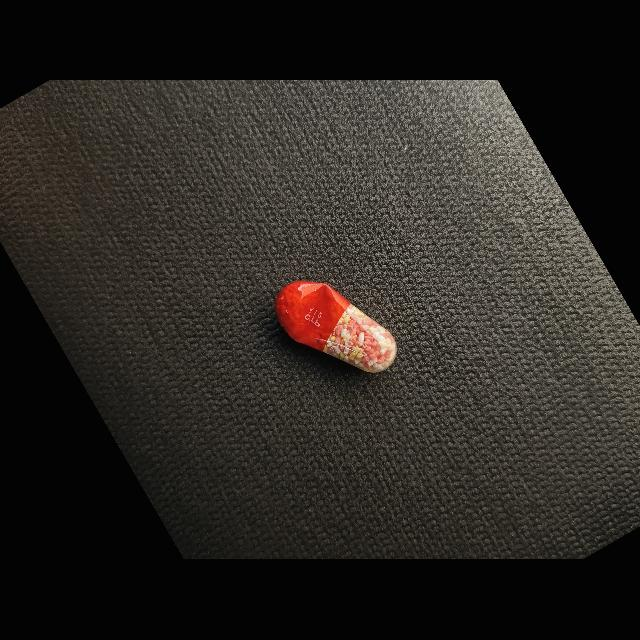Defective Capsule: (276, 281, 397, 374)
